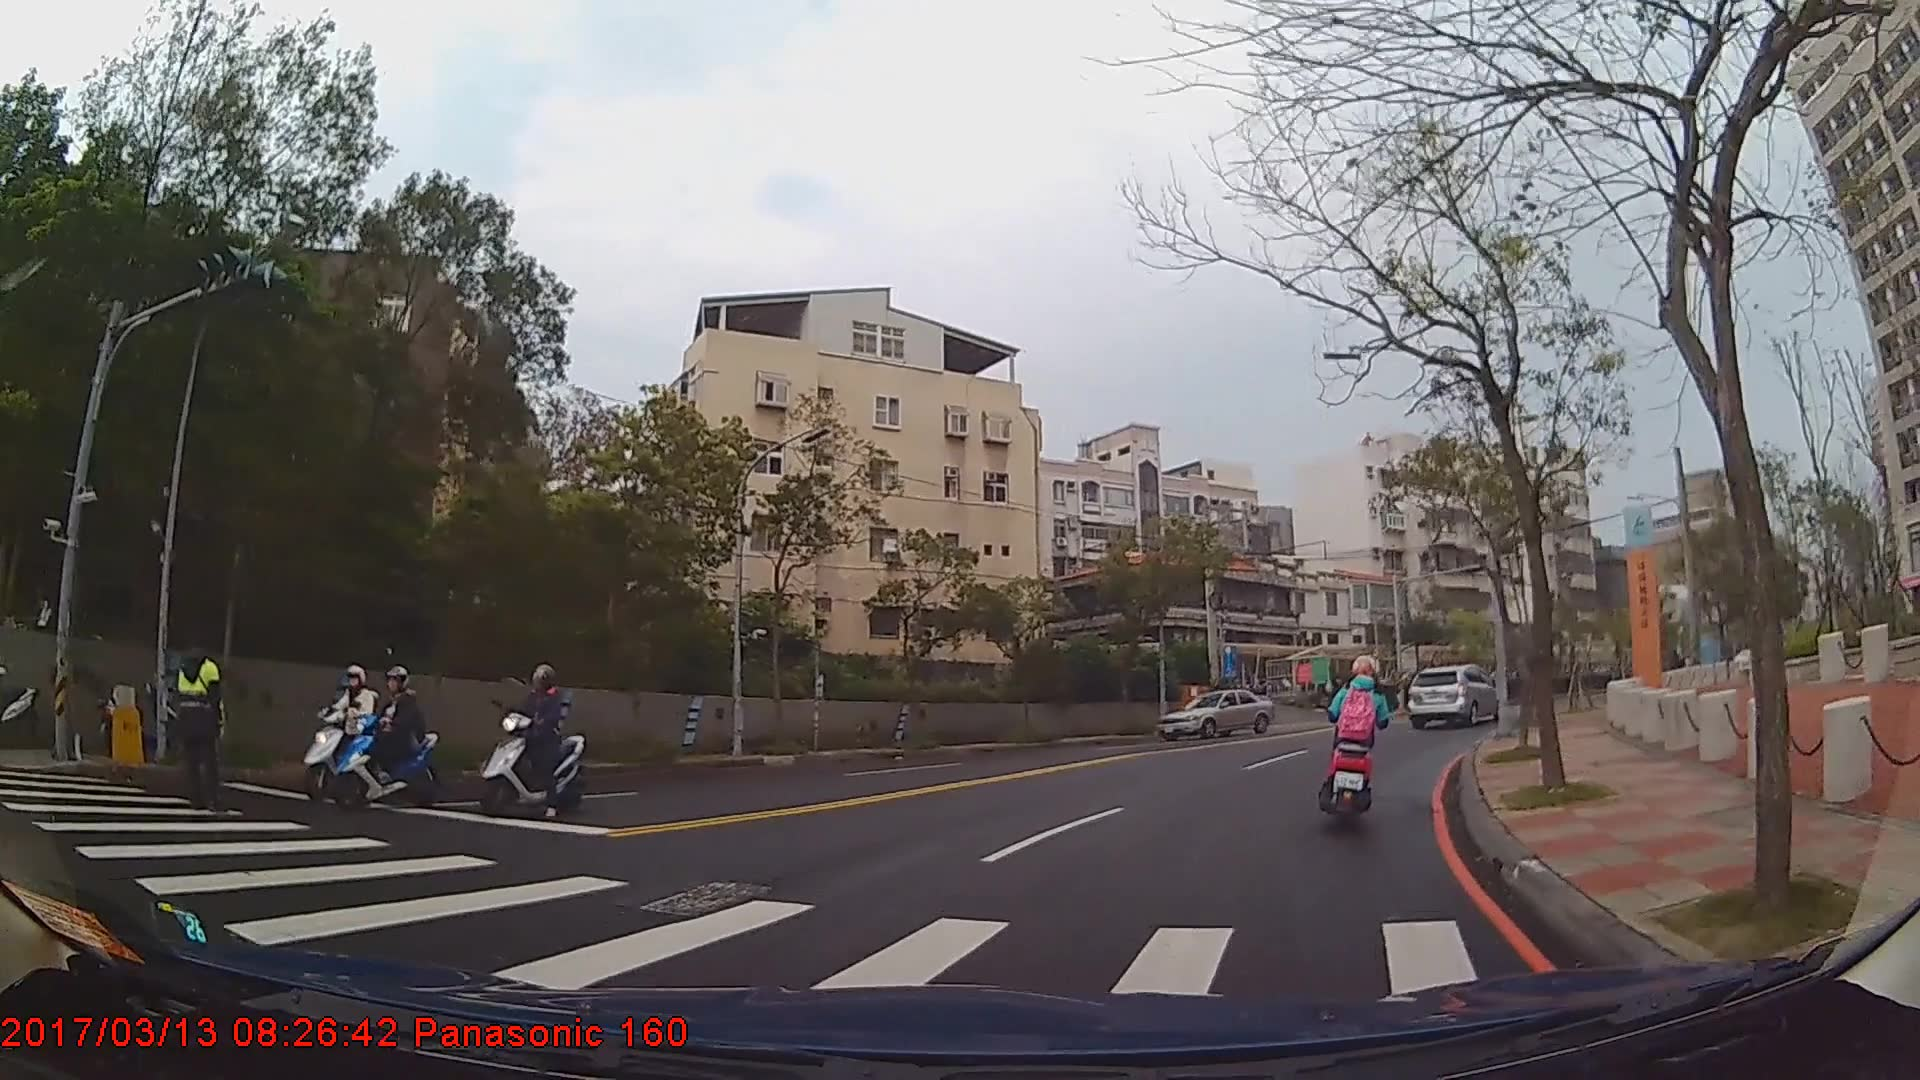pedestrian: (168, 628, 229, 808)
rider: (471, 666, 588, 820), (343, 663, 433, 802), (303, 661, 393, 793), (1322, 659, 1389, 817)
vehicle: (1153, 688, 1274, 742), (1409, 663, 1497, 727)
